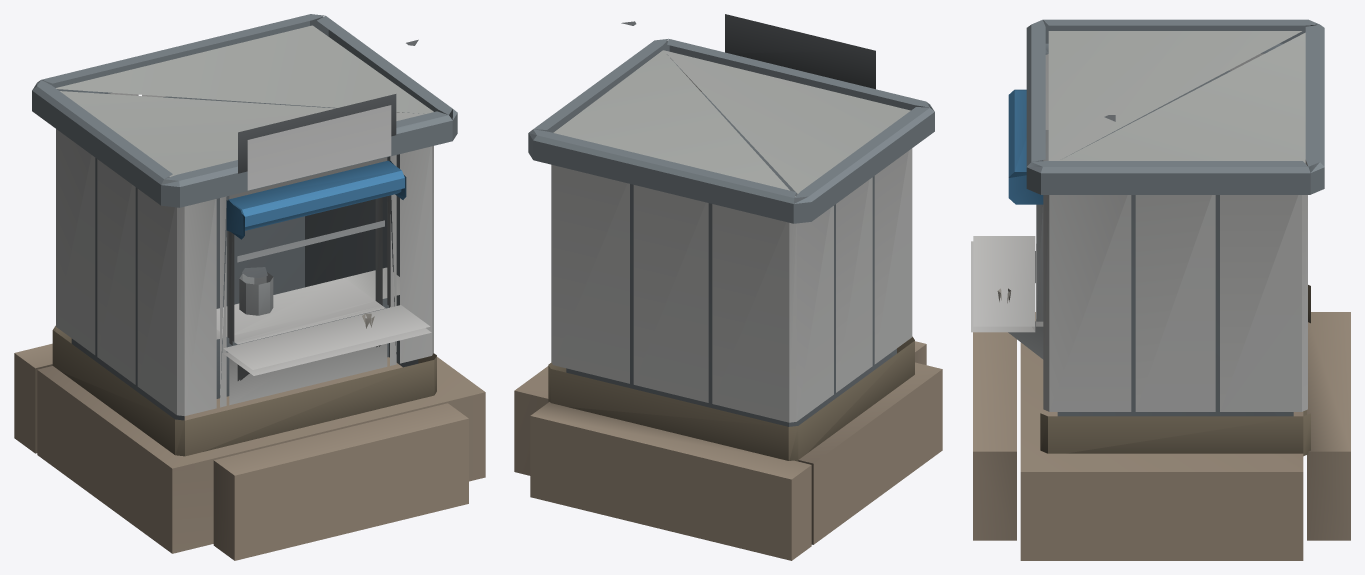
File: kiosk.lod.glb
The picture shows the model from 3 angles, left to right: view 1: azimuth 30°, elevation 25°; view 2: azimuth 150°, elevation 25°; view 3: azimuth 270°, elevation 25°; orthographic projection. The views are drawn at different scales.
Visible parts, largest first — view 1: kiosk.001; view 2: kiosk.001; view 3: kiosk.001.
Part boxes in pixels (x1,y1,x2,y2): kiosk.001: [14, 14, 485, 560]; kiosk.001: [514, 14, 942, 560]; kiosk.001: [971, 19, 1350, 560].
Bounding box in the file's own units: 3.98 × 4.95 × 3.98.
